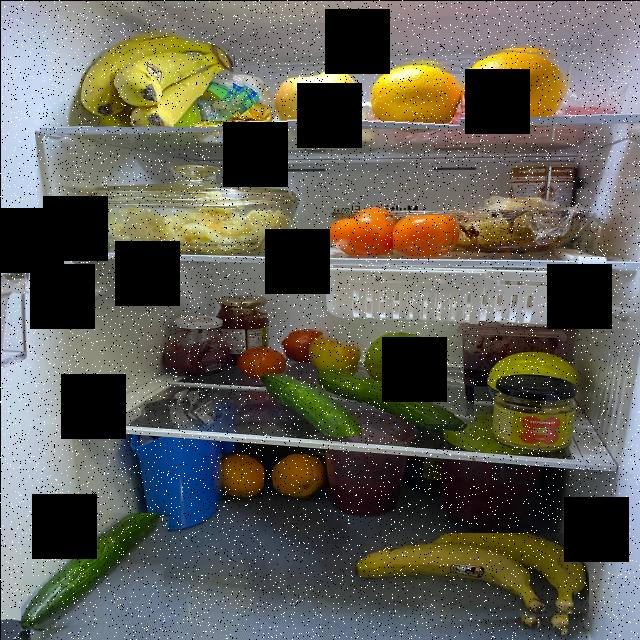Apple: (270, 71, 362, 130), (358, 332, 431, 377), (156, 95, 206, 134), (308, 332, 358, 368)
Banana: (347, 533, 589, 632), (81, 25, 236, 127)
Cucumber: (22, 513, 172, 632), (310, 361, 474, 424), (256, 367, 362, 436)
Orange: (466, 46, 570, 117), (366, 57, 466, 129), (273, 454, 327, 498), (216, 455, 264, 499)
Tomato: (328, 208, 393, 255), (387, 215, 457, 256), (238, 344, 286, 378), (282, 329, 324, 361)
